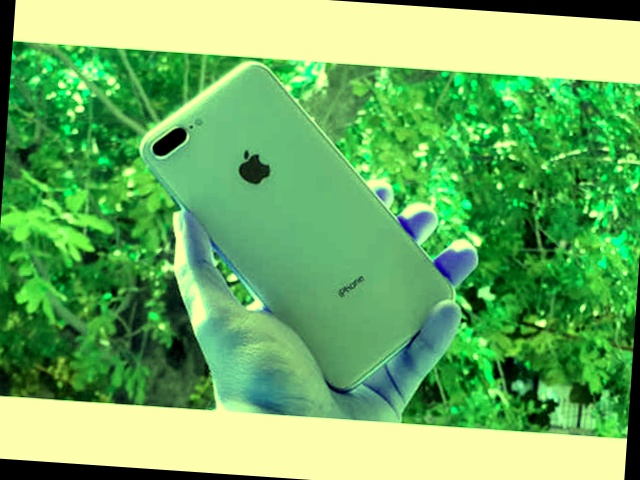iphone: (134, 66, 458, 391)
